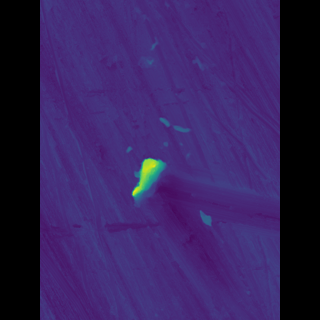Loch: (134, 150, 168, 211), (141, 48, 160, 72)
